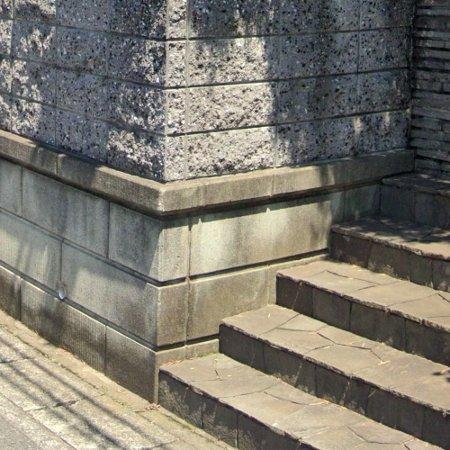stairs: (159, 174, 450, 450)
